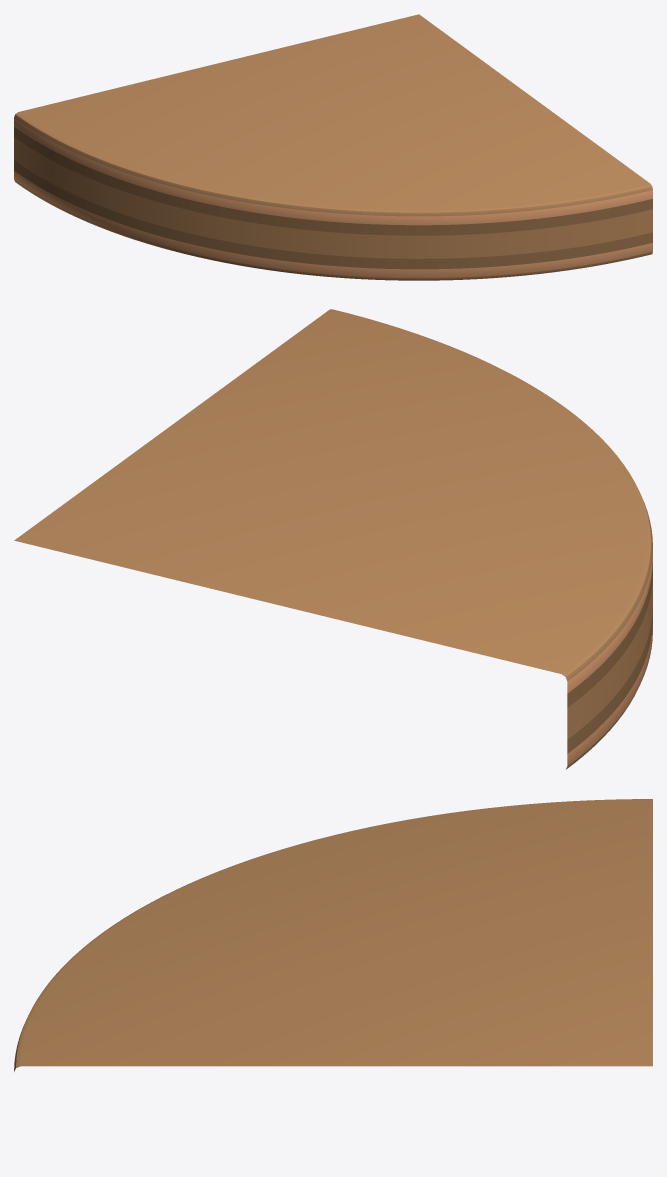
The model's file is platform_dirt_corner_round6.gltf.
3 views of the same model, one above another, from view 1: azimuth 30°, elevation 25°; view 2: azimuth 150°, elevation 25°; view 3: azimuth 270°, elevation 25° (orthographic). The views are drawn at different scales.
Visible parts, largest first — view 1: Cube_Dirt_Corner_Round6; view 2: Cube_Dirt_Corner_Round6; view 3: Cube_Dirt_Corner_Round6.
Boxes of the visible parts, x1,y1,x2,y2 form: Cube_Dirt_Corner_Round6: (14, 14, 652, 280); Cube_Dirt_Corner_Round6: (14, 309, 652, 769); Cube_Dirt_Corner_Round6: (14, 799, 652, 1071).
Bounding box in the file's own units: 12 × 2 × 12.
